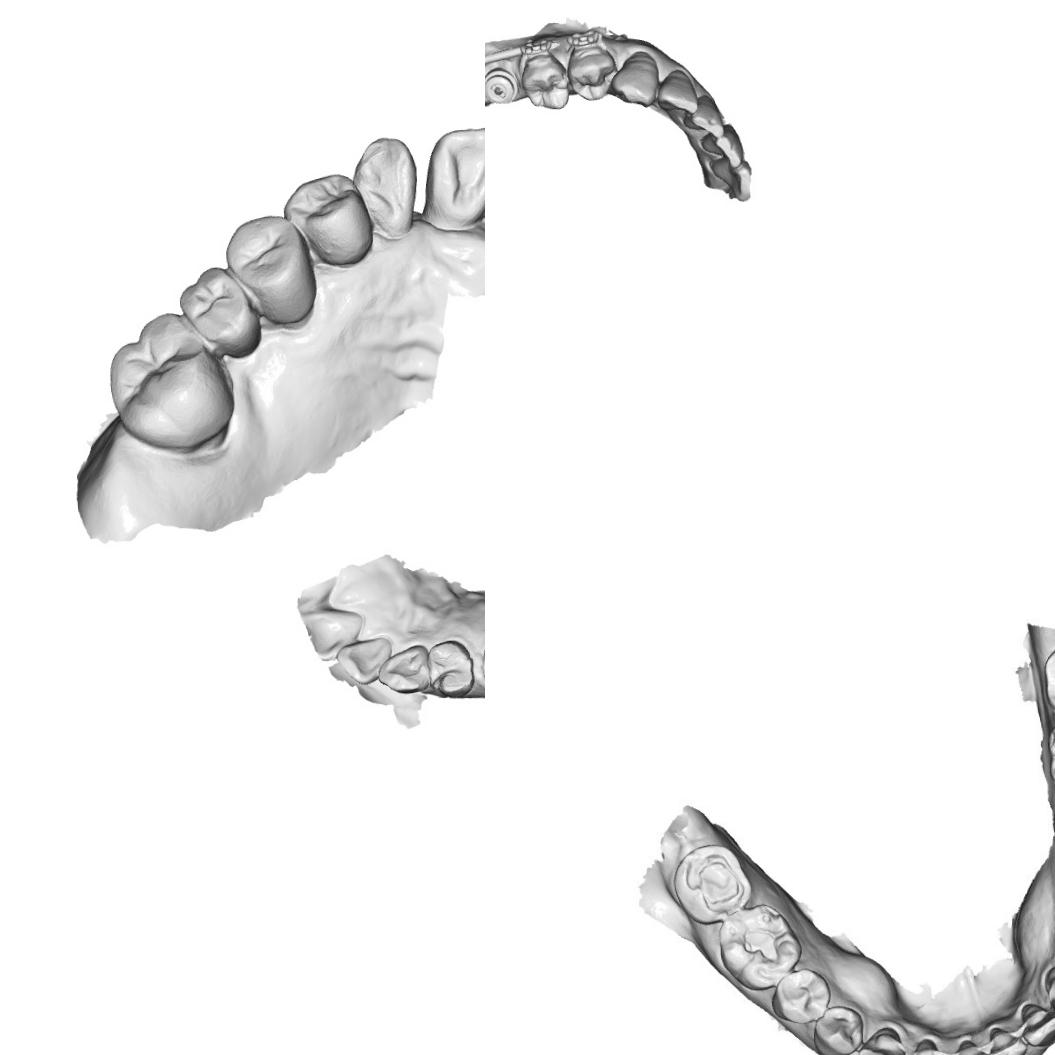canine: (348, 132, 422, 243), (376, 642, 431, 701), (609, 50, 660, 109), (856, 1025, 911, 1055), (1043, 959, 1055, 1014)
implant_minus: (485, 66, 520, 106)
incisor: (420, 122, 485, 221), (300, 606, 366, 664), (334, 636, 392, 688), (654, 66, 698, 116), (705, 120, 747, 170), (712, 158, 754, 202), (693, 94, 726, 138), (1023, 1002, 1055, 1042), (990, 1027, 1025, 1055), (903, 1037, 949, 1055), (950, 1038, 993, 1055)
molar: (104, 309, 236, 453), (174, 262, 259, 356), (715, 904, 795, 991), (674, 842, 751, 922)
premolar: (222, 212, 316, 322), (279, 170, 372, 267), (775, 970, 844, 1025), (520, 48, 570, 112), (426, 636, 476, 700), (566, 46, 619, 104), (813, 1010, 865, 1052)
